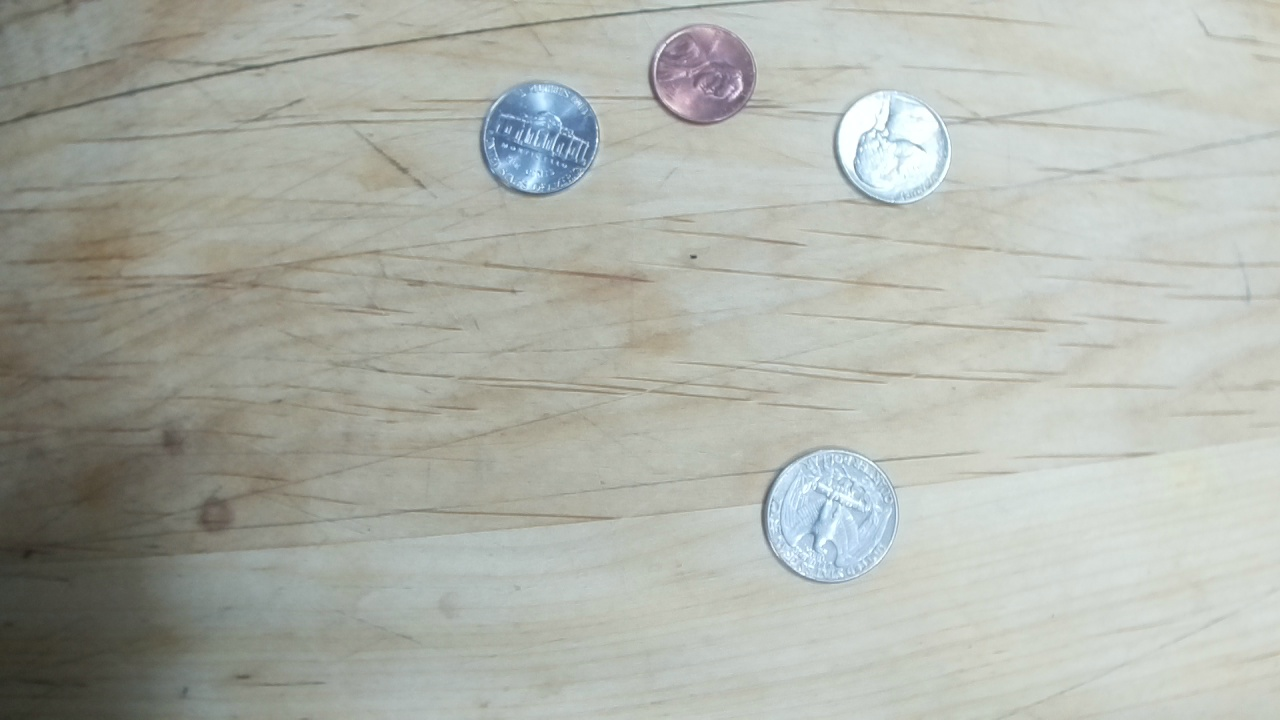nickel: (479, 77, 602, 197), (831, 90, 950, 206)
penny: (648, 21, 759, 127)
quarter: (760, 446, 900, 584)
